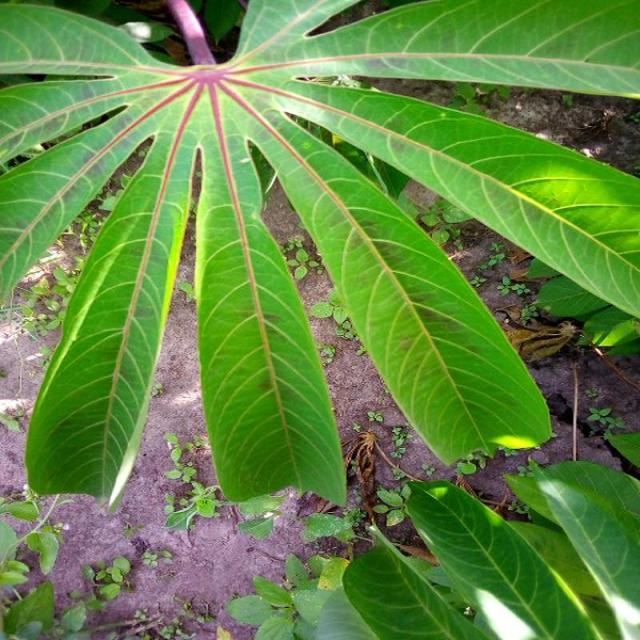cassava leaf: (1, 0, 638, 514), (244, 104, 554, 468), (194, 128, 347, 507)
